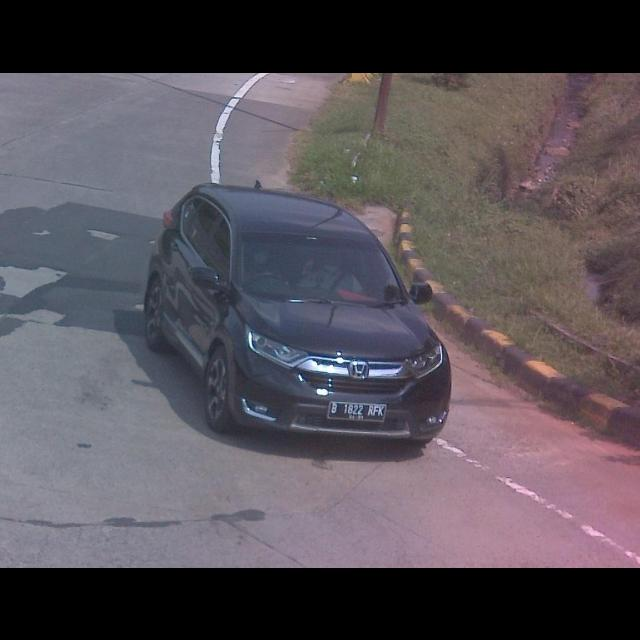plate: (328, 398, 388, 425)
